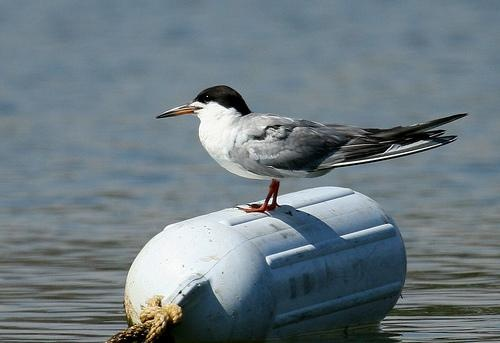bird: (148, 86, 471, 215)
